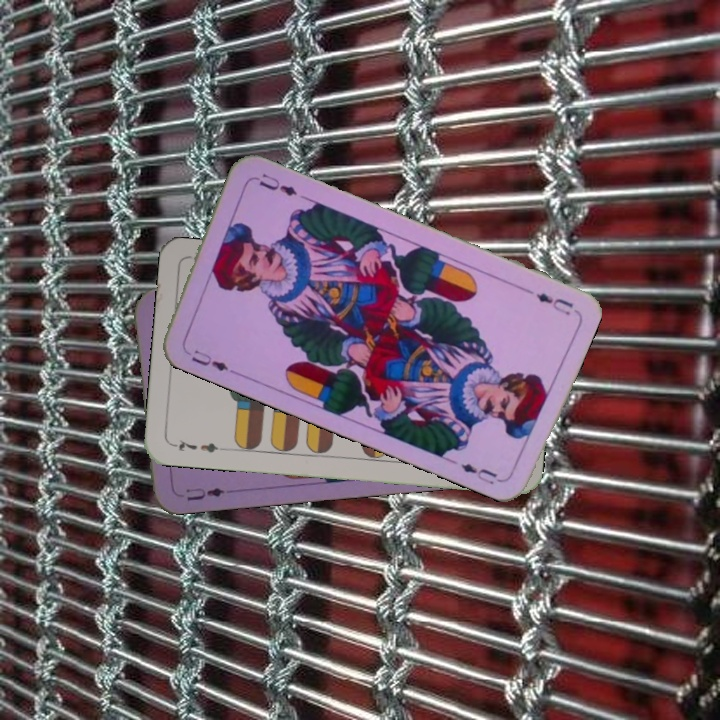E7: (168, 435, 227, 456)
EU: (181, 345, 231, 374), (532, 288, 576, 318), (181, 483, 227, 503)
